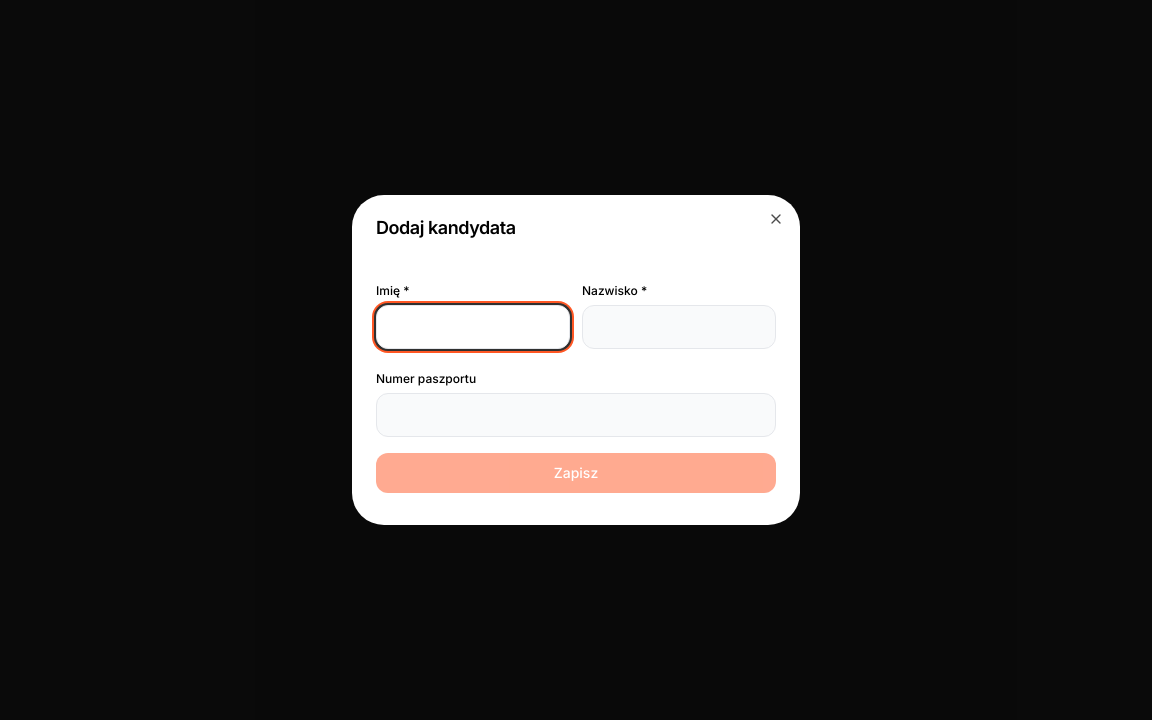
Scenario: AddCandidateDialog › save button is enabled when both required fields are filled
Type "Jan" into the field below "Imię" at (473, 327), box [376,305,570,349]
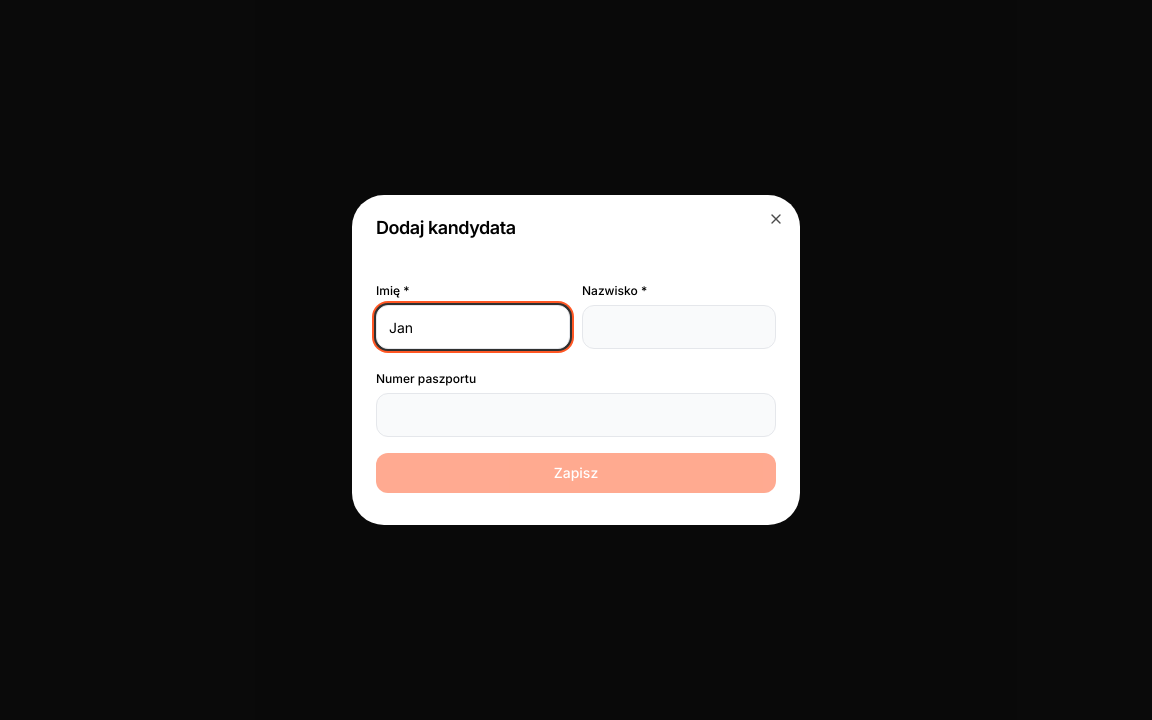
Type "Kowalski" into the field below "Nazwisko" at (679, 327), box [582,305,776,349]
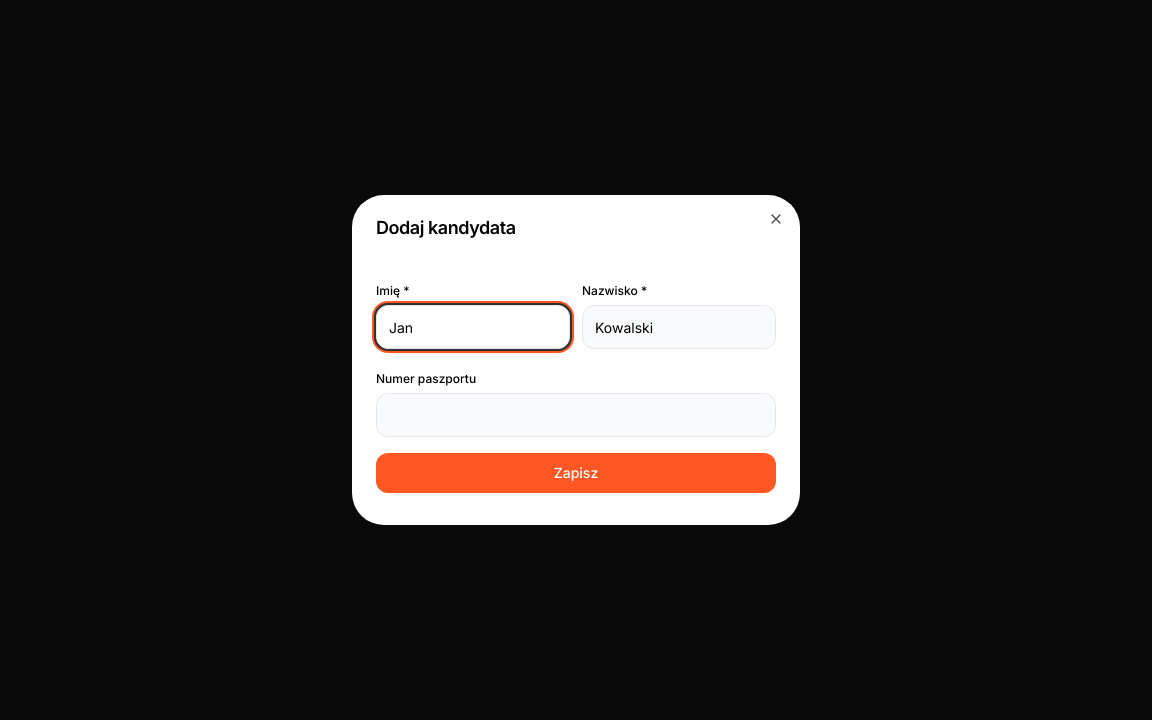
Expected: the button "Zapisz" is enabled, [376,453,776,493]
